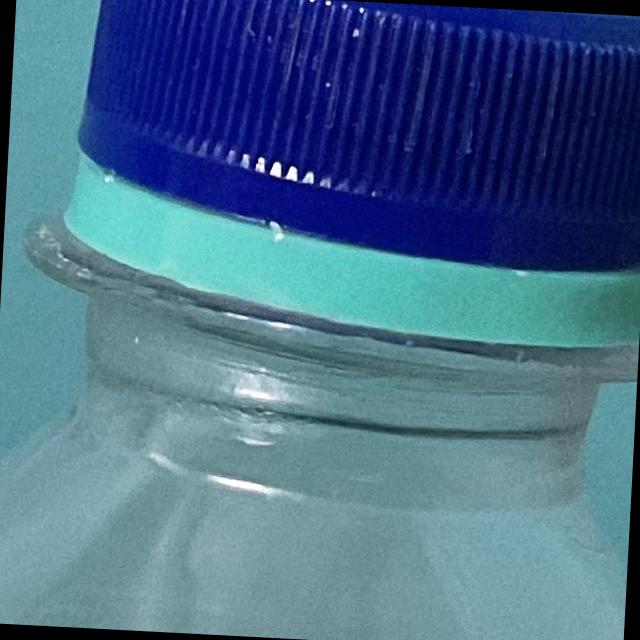Good-cap-Df0S: (30, 0, 640, 347)
